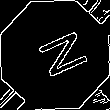N_SW: (24, 26, 86, 84)
